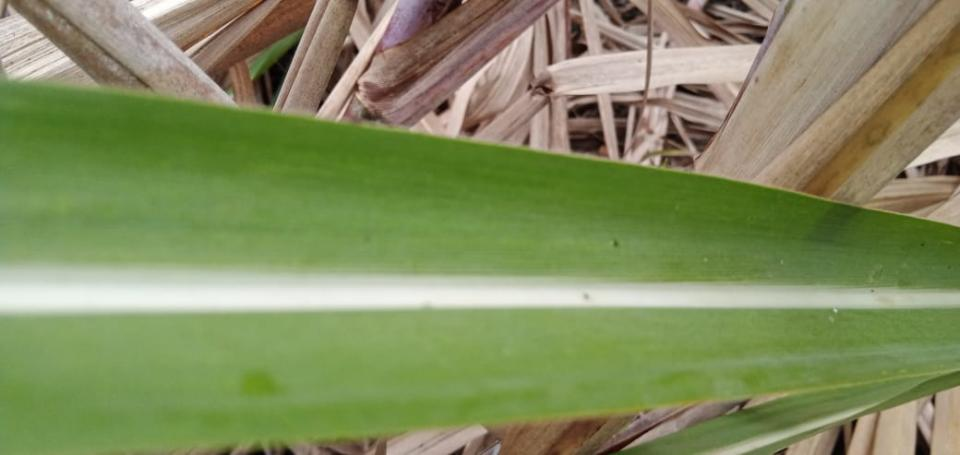Healthy: (0, 80, 959, 454), (612, 370, 959, 454)
